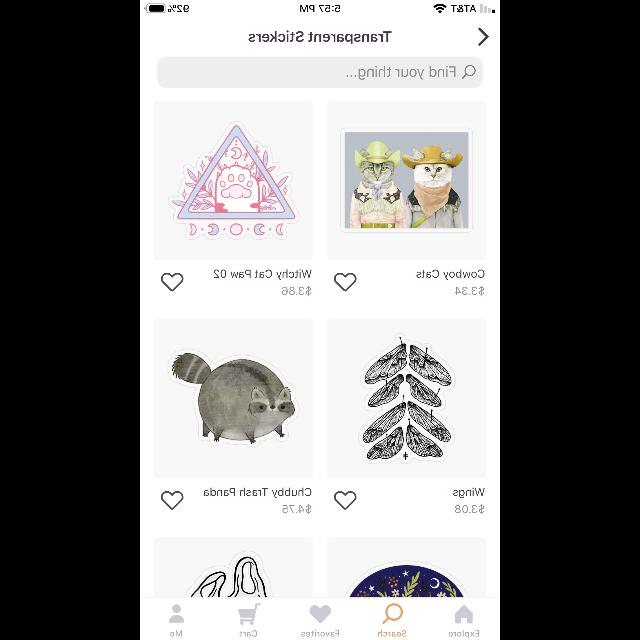icon: (239, 604, 261, 624), (160, 273, 183, 291), (383, 604, 403, 624), (309, 605, 331, 623), (334, 491, 356, 509), (161, 491, 183, 509), (334, 273, 356, 291), (456, 605, 472, 623), (170, 605, 184, 623), (478, 28, 488, 46), (462, 66, 476, 78)
image: (328, 100, 487, 260), (326, 320, 486, 478), (154, 102, 312, 260), (154, 320, 312, 478), (328, 537, 487, 597), (154, 538, 312, 596)
input: (158, 56, 482, 88)
text: (248, 31, 392, 45), (346, 66, 456, 80), (205, 488, 312, 498), (215, 270, 312, 280), (416, 270, 484, 280), (454, 488, 484, 498), (282, 286, 312, 296), (283, 504, 311, 514), (456, 504, 484, 514), (456, 286, 484, 296), (448, 630, 479, 638), (301, 630, 339, 636), (378, 630, 406, 636), (240, 630, 256, 636), (170, 630, 182, 636)
uppertaskbar: (140, 1, 500, 15)
